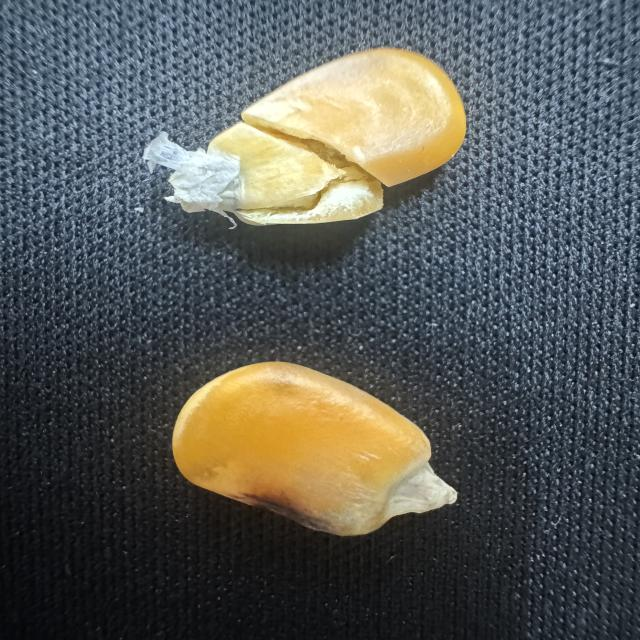Bad-Seed: (140, 40, 463, 234), (160, 353, 470, 554)
